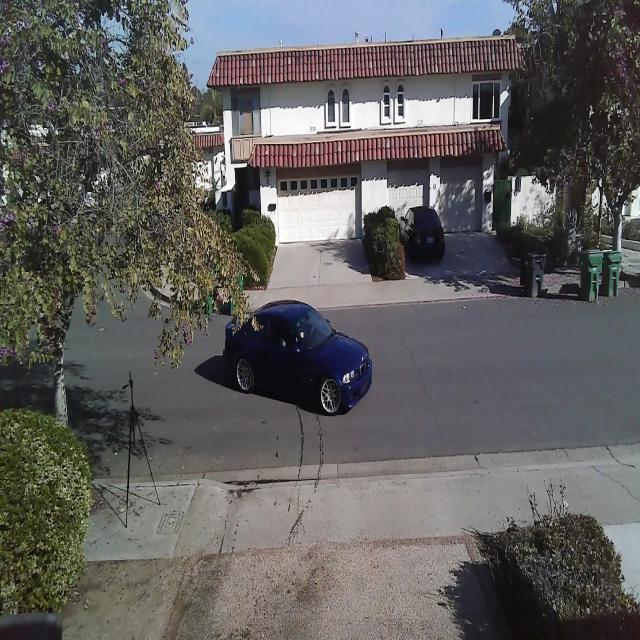Carbeetle: (222, 288, 376, 422)
Civilian: (399, 205, 446, 264)
